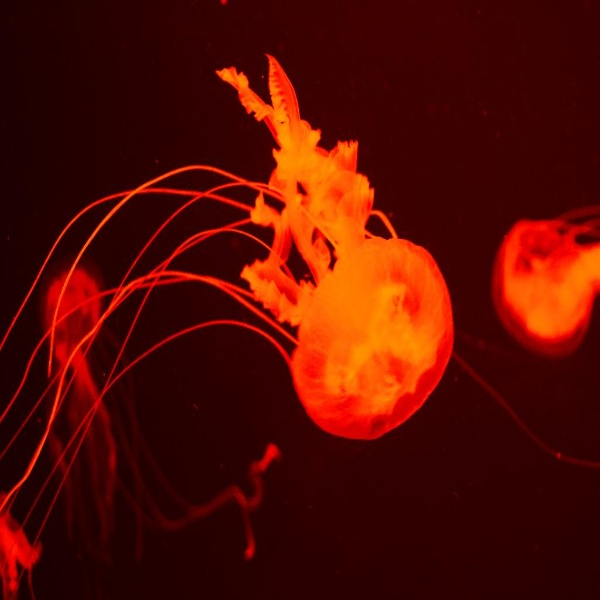Jellyfish: (21, 37, 483, 510), (488, 207, 599, 352)
